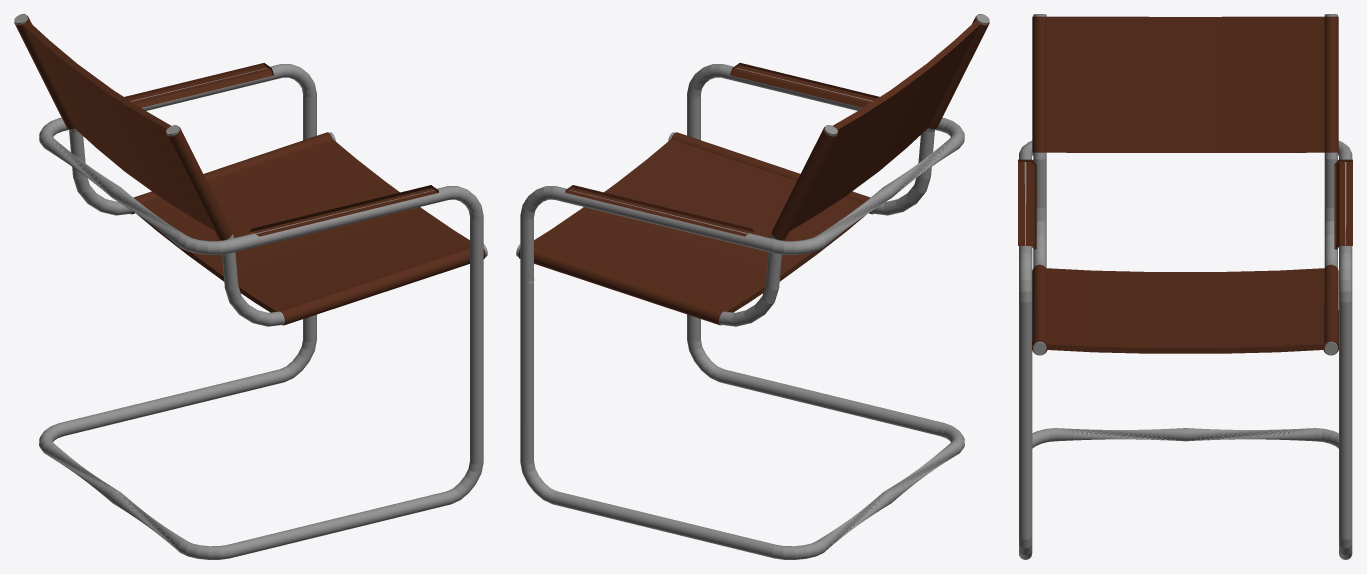
Rendered from Chair.obj.
3 renders of one model, left to right at view 1: azimuth 30°, elevation 25°; view 2: azimuth 150°, elevation 25°; view 3: azimuth 270°, elevation 25°, orthographic. The views are drawn at different scales.
Parts seen in each view (by area): view 1: Leather_Mesh, Struct_left_Curve.002, Struct_right_Curve.002, Accoudoir_Plane; view 2: Leather_Mesh, Struct_right_Curve.002, Struct_left_Curve.002, Accoudoir_Plane; view 3: Leather_Mesh, Struct_right_Curve.002, Struct_left_Curve.002, Accoudoir_Plane.
Part boxes in pixels (<box>): Leather_Mesh: <box>14,15,485,325</box>; Struct_left_Curve.002: <box>110,125,487,559</box>; Struct_right_Curve.002: <box>15,14,335,501</box>; Accoudoir_Plane: <box>124,63,438,236</box>; Leather_Mesh: <box>518,15,989,325</box>; Struct_right_Curve.002: <box>516,125,893,559</box>; Struct_left_Curve.002: <box>668,14,988,501</box>; Accoudoir_Plane: <box>565,63,879,236</box>; Leather_Mesh: <box>1032,16,1338,355</box>; Struct_right_Curve.002: <box>1185,14,1352,559</box>; Struct_left_Curve.002: <box>1019,14,1185,559</box>; Accoudoir_Plane: <box>1018,159,1352,249</box>.
Size of the model in its own units: 0.5503 by 0.7223 by 0.5229.
